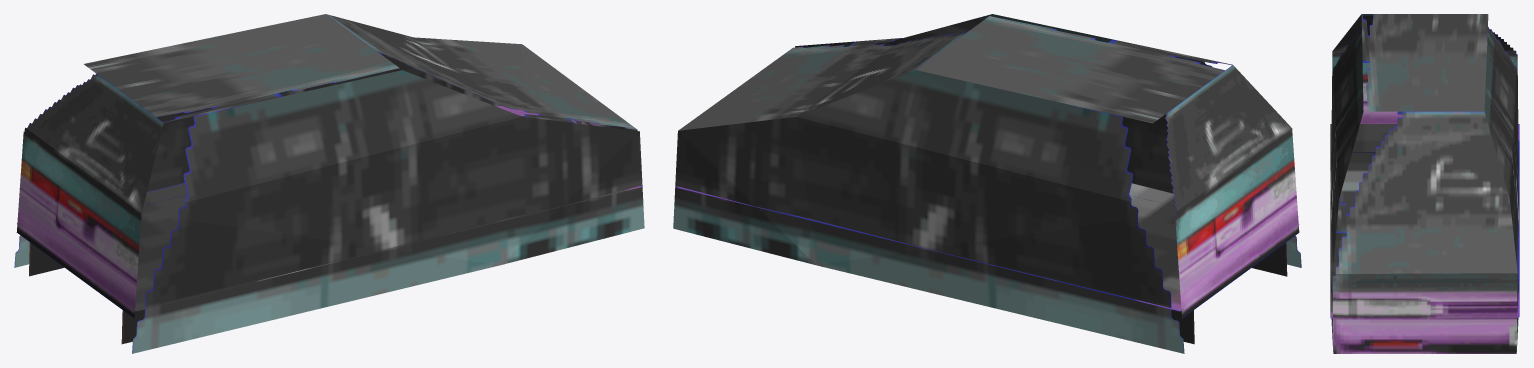
The model's file is _AXXESS.obj.
3 views of the same model, side by side, from view 1: azimuth 30°, elevation 25°; view 2: azimuth 150°, elevation 25°; view 3: azimuth 270°, elevation 25° (orthographic). The views are drawn at different scales.
Bounding box in the file's own units: 479 × 183 × 194.
Materials: 1 (1 with a texture image).
